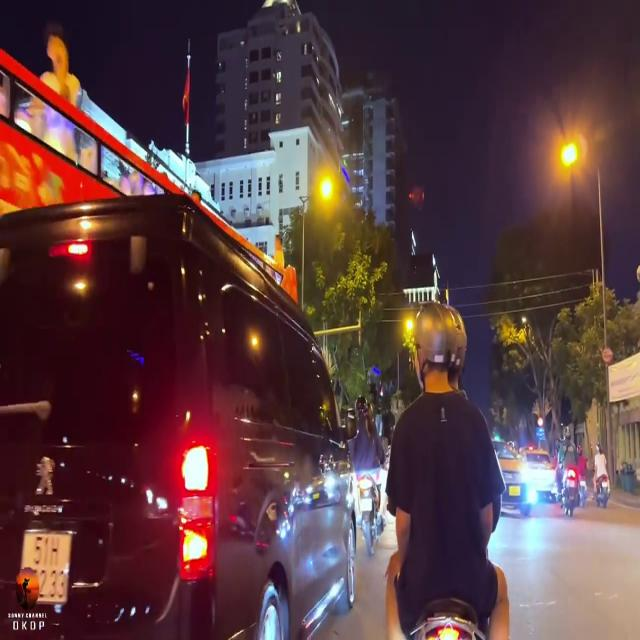bien_trang: (20, 526, 71, 604)
